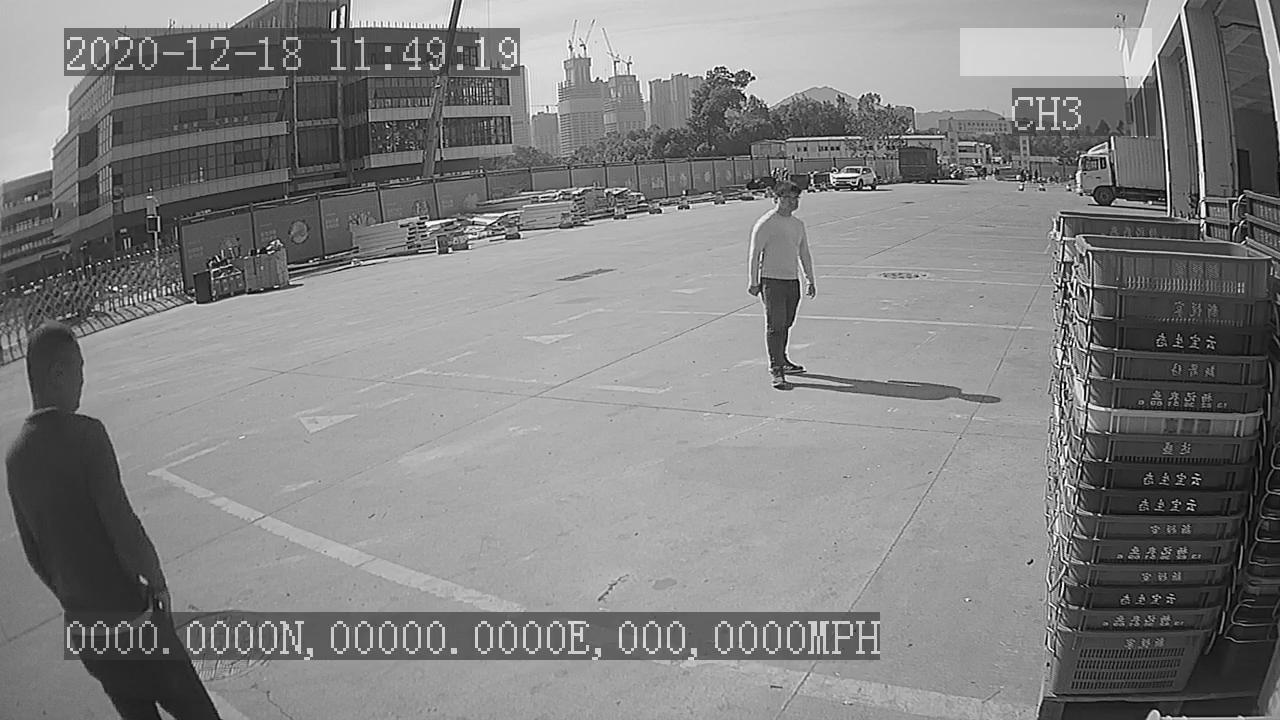person: (742, 181, 818, 395)
